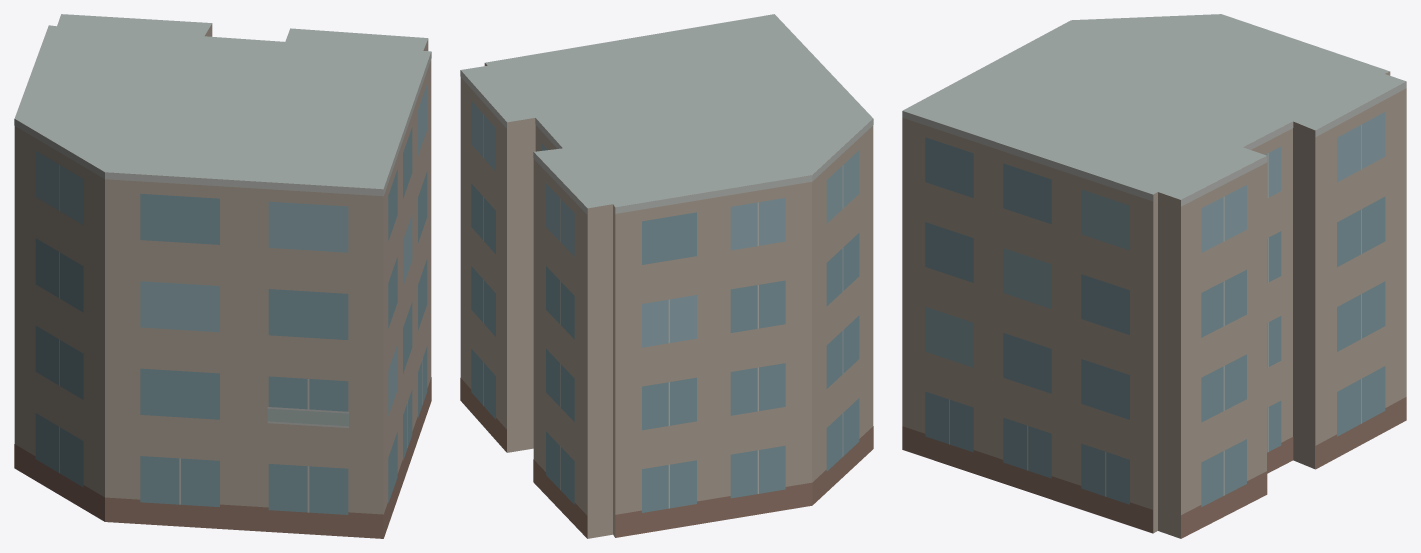
Rendered from survey-upis-32884763.glb.
3 renders of one model, left to right at view 1: azimuth 30°, elevation 25°; view 2: azimuth 150°, elevation 25°; view 3: azimuth 270°, elevation 25°, orthographic. The views are drawn at different scales.
Visible parts, largest first — view 1: survey-upis-32884763.tmp; view 2: survey-upis-32884763.tmp; view 3: survey-upis-32884763.tmp.
Boxes of the visible parts, x1=… form: survey-upis-32884763.tmp: x1=14, y1=14, x2=431, y2=538; survey-upis-32884763.tmp: x1=460, y1=14, x2=873, y2=538; survey-upis-32884763.tmp: x1=902, y1=14, x2=1406, y2=538.
Size of the model in its own units: 14.36 by 12.2 by 16.46.
